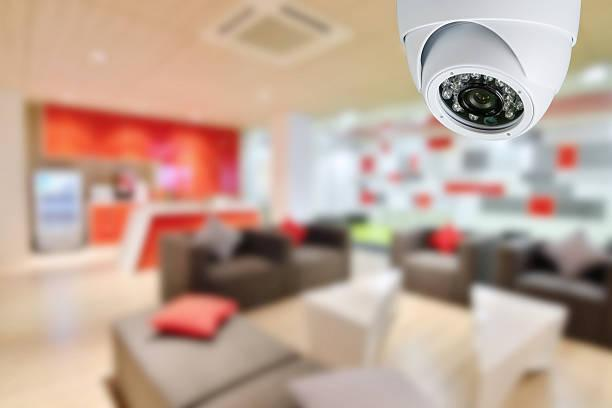camera: (375, 0, 592, 153)
